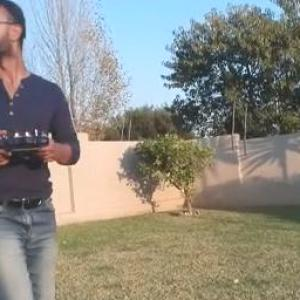follow: (2, 0, 84, 299)
